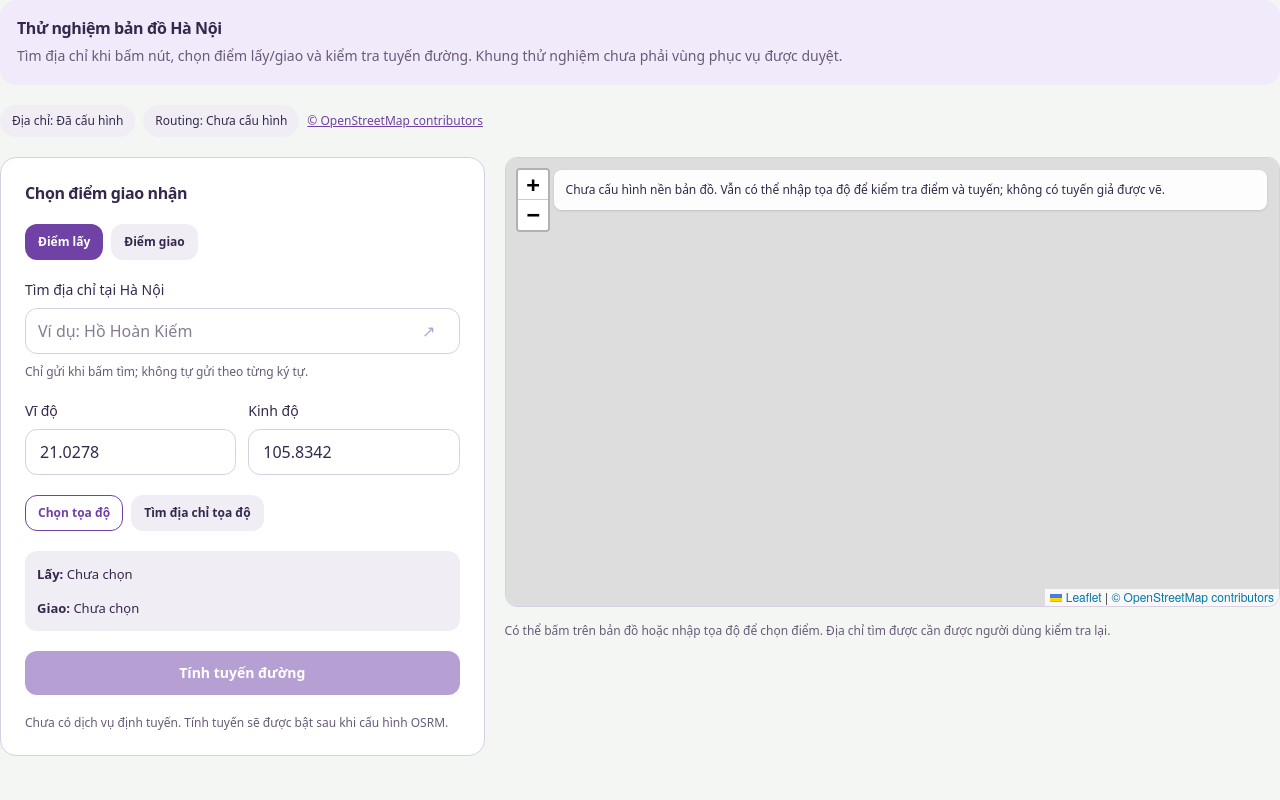
map playground behavior › disables routing without a configured service and reports out-of-region points
Expected: the button "Tính tuyến đường" is disabled, [25,651,460,695]
Replace the text in the field labelled "Vĩ độ" with "10.77": [131, 452] box [25,429,236,475]
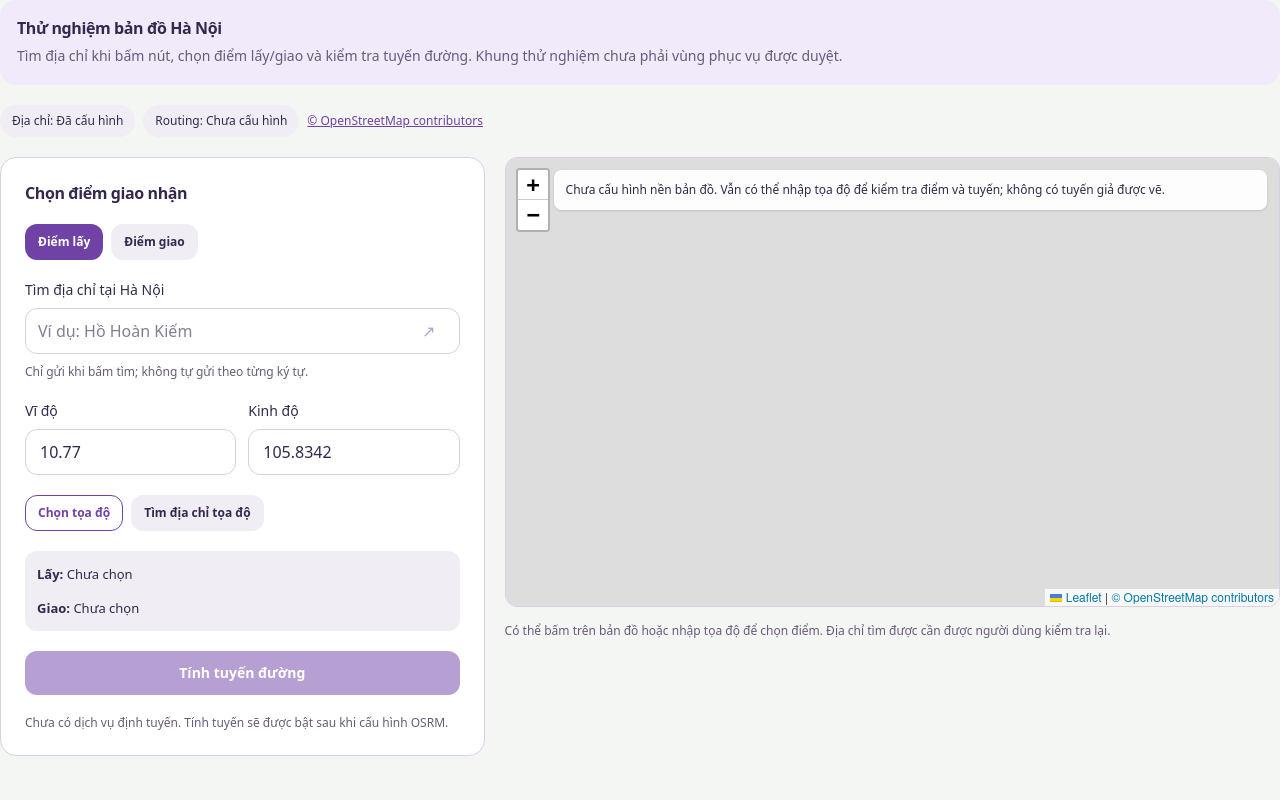
Replace the text in the field labelled "Kinh độ" with "106.7": [354, 452] box [248,429,460,475]
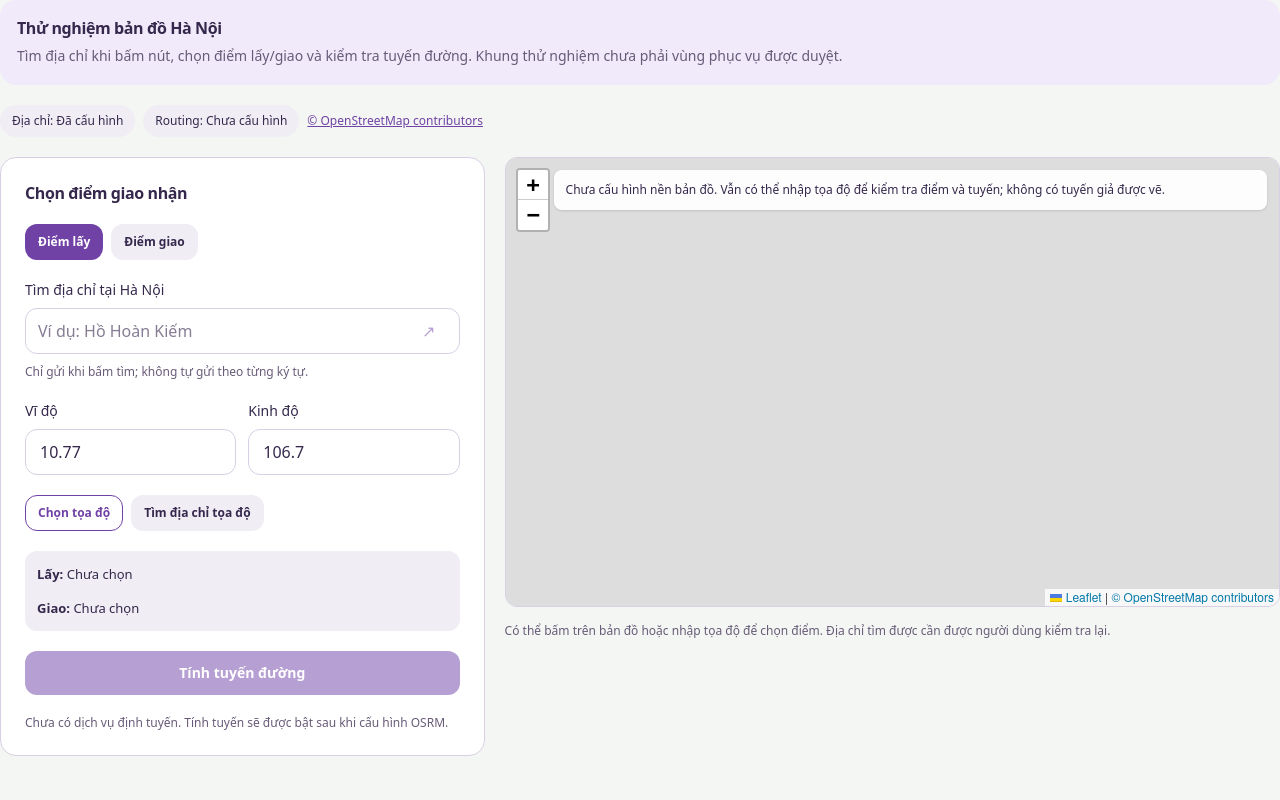
Click the button "Chọn tọa độ": [74, 513] box [25,495,123,531]
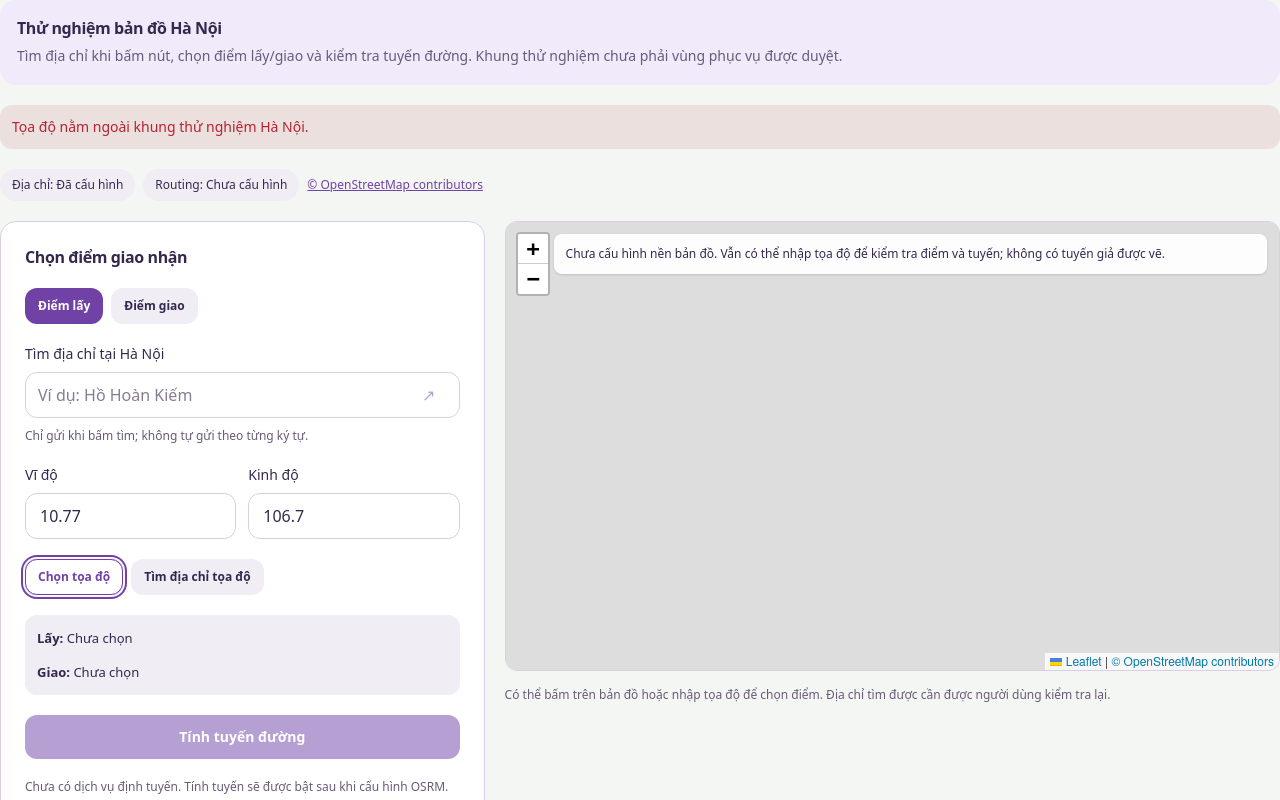
Expected: the message shows "ngoài khung thử nghiệm Hà Nội", [12,117,308,136]
